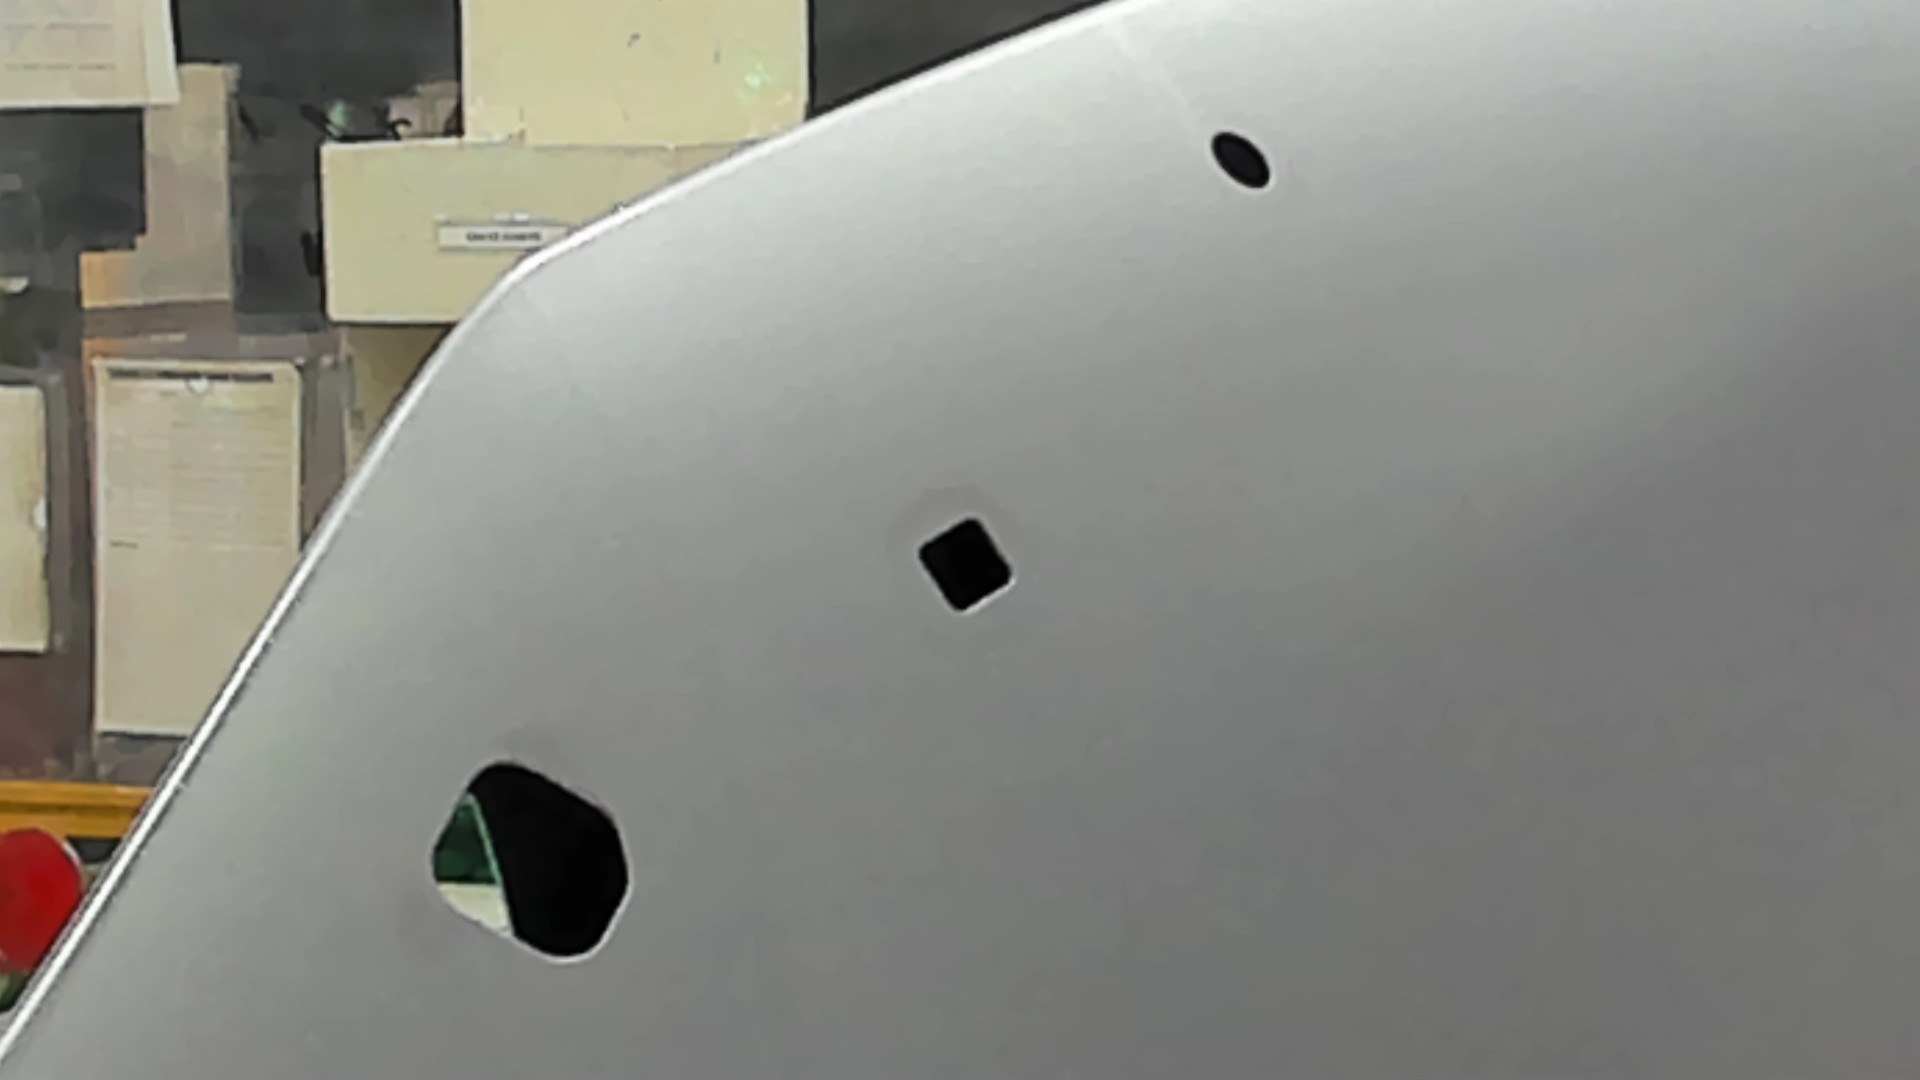chico: (1209, 117, 1275, 195)
grande: (411, 750, 655, 967)
mediano: (902, 505, 1030, 618)
